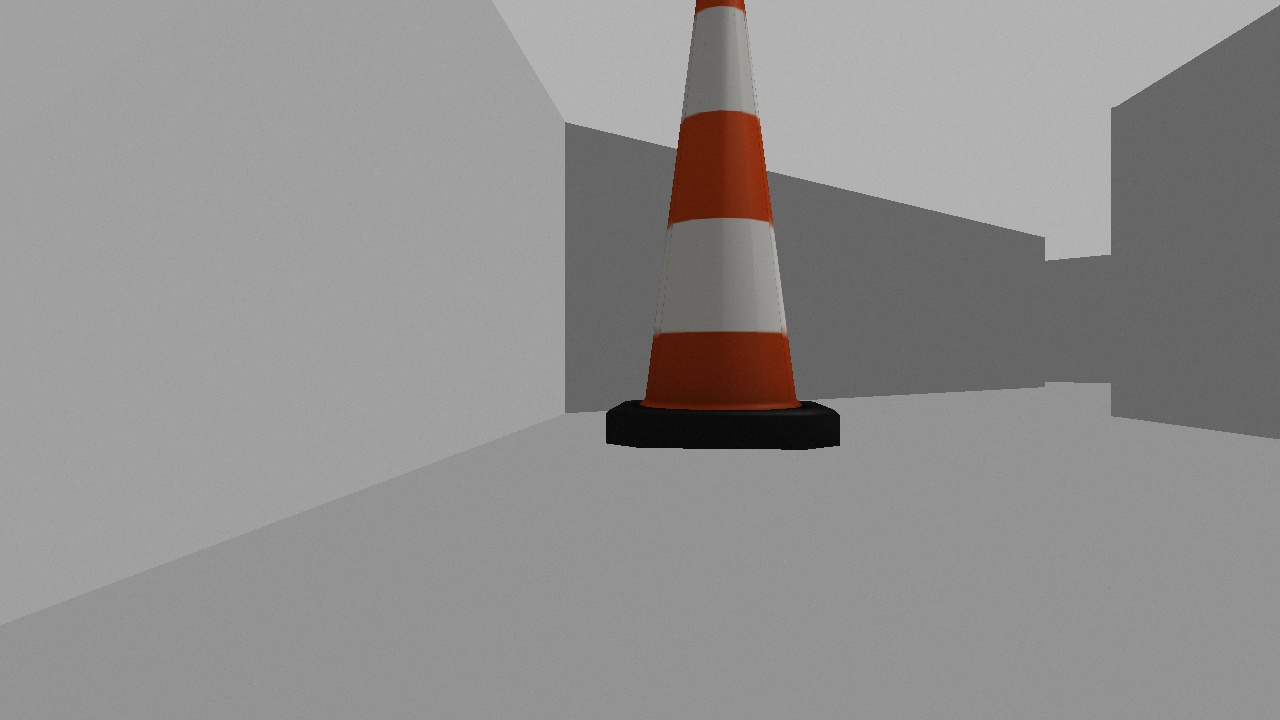barricade: (603, 1, 850, 452)
